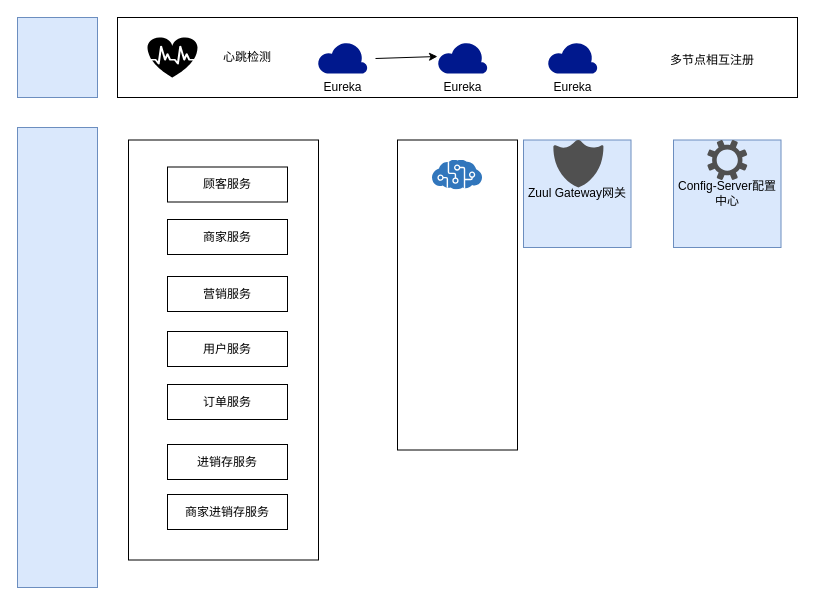
The diagram is 815 pixels wide and 605 high, and some of its shapes have lost their labels. Each missing label, with the box of its shape:
WEB-APP 服务器集群: (396, 139, 518, 450)
服务中心: (16, 126, 98, 588)
注册中心: (16, 16, 98, 98)
